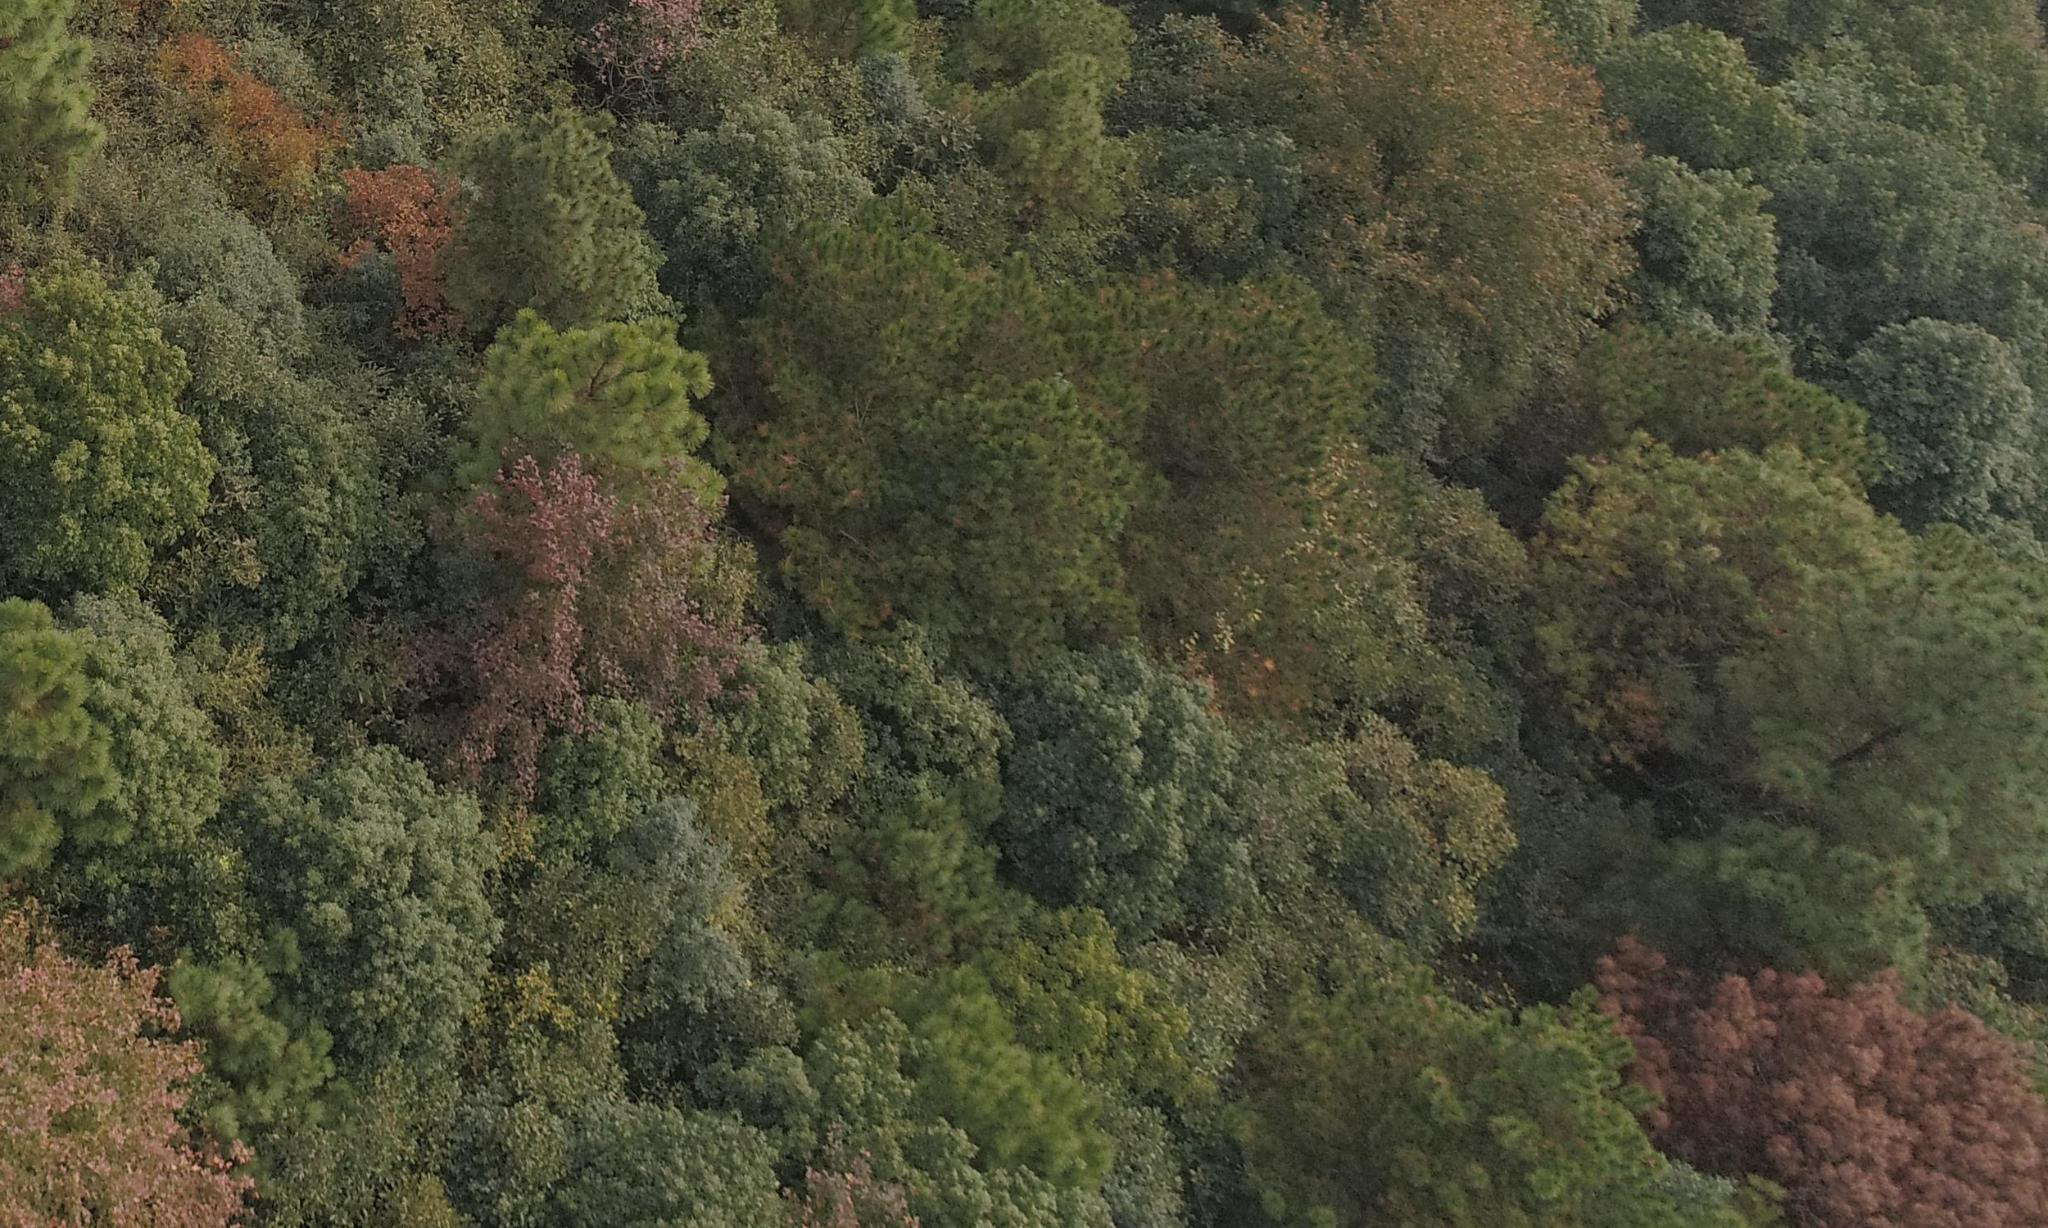heavy: (1561, 917, 2030, 1215)
